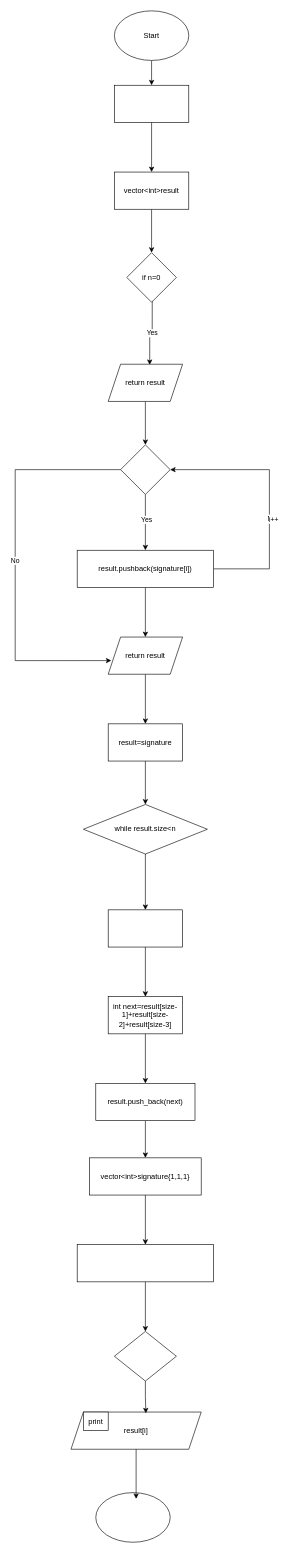
Some shapes in this 289 by 1553 pixel diagram are drawn without their labels. The shapes that lost their labels are listed below. From the top down, each one's centre as x and y in pixels, then its label:
At point (151, 103): "int tribonacci equation (vector signature,n)".
At point (145, 469): "if n<=3".
At point (145, 928): "int size= result.size()".
At point (145, 1263): "int result=tribonacci(signature,10)".
At point (145, 1356): "i<result.size()".
At point (132, 1517): "end".
